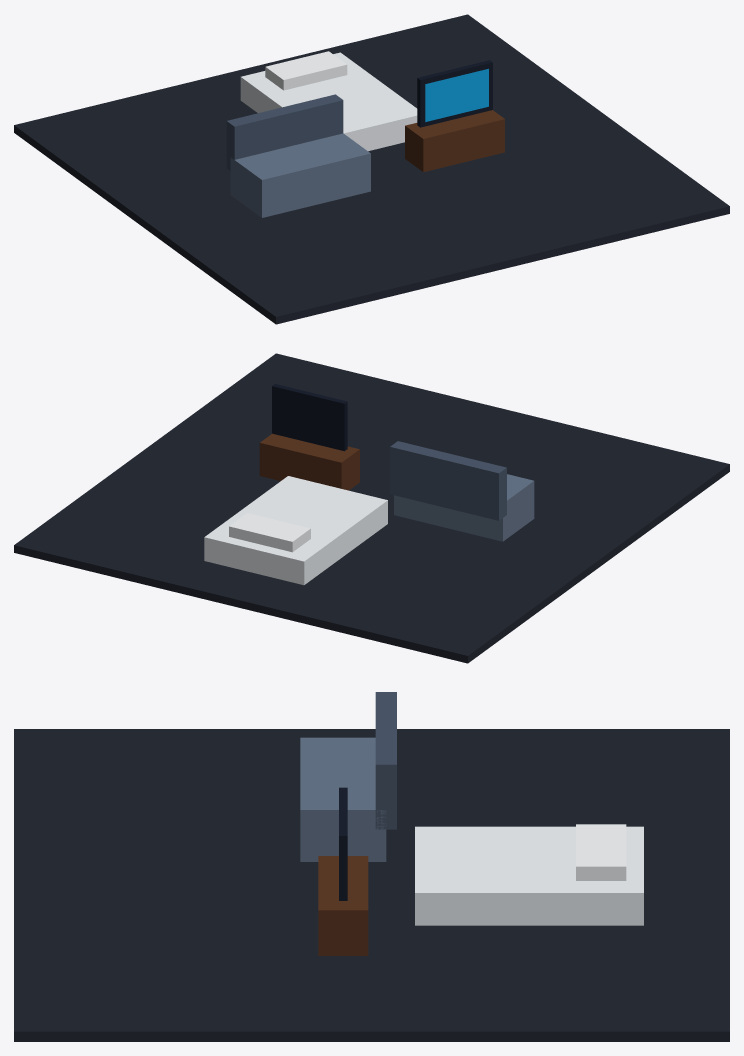
Rendered from home.glb.
3 views of the same model, one above another, from view 1: azimuth 30°, elevation 25°; view 2: azimuth 150°, elevation 25°; view 3: azimuth 270°, elevation 25° (orthographic). The views are drawn at different scales.
Bounding box in the file's own units: 5 × 0.98 × 5.
